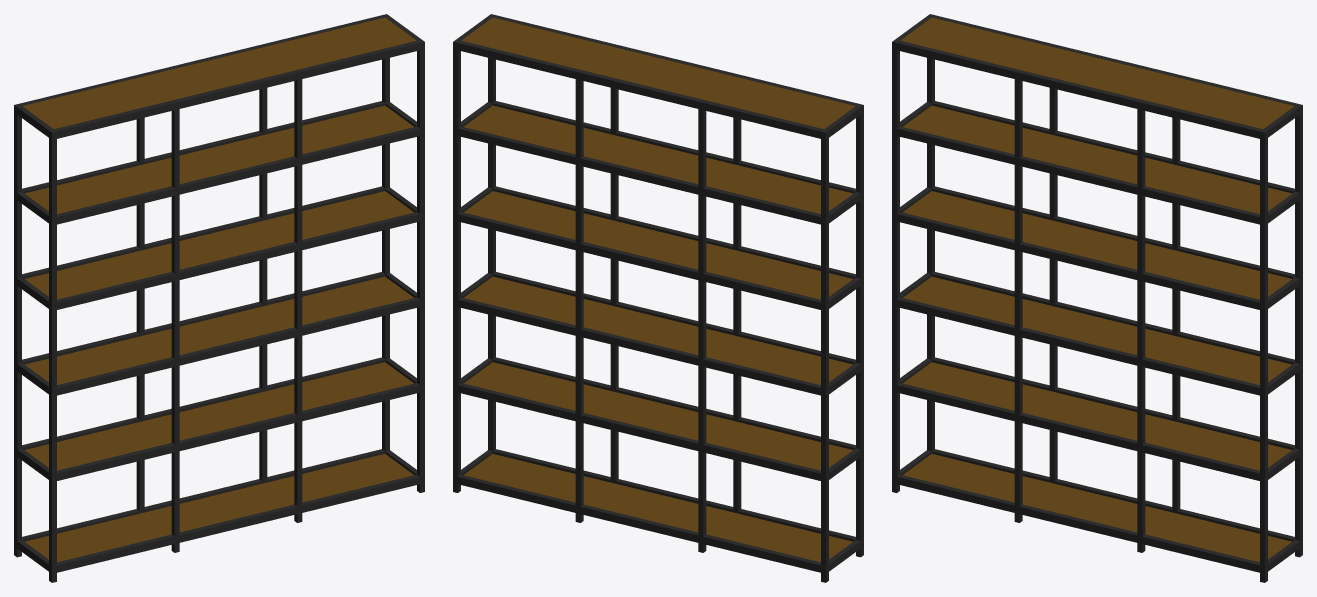
Rendered from BookShelf_6.fbx.
3 renders of one model, left to right at view 1: azimuth 30°, elevation 25°; view 2: azimuth 150°, elevation 25°; view 3: azimuth 330°, elevation 25°, orthographic.
Parts seen in each view (by area): view 1: BookShelf6; view 2: BookShelf6; view 3: BookShelf6.
Part boxes in pixels (x1,y1,x2,y2): BookShelf6: (14,14,424,582); BookShelf6: (453,14,863,582); BookShelf6: (892,14,1302,582).
Size of the model in its own units: 514 by 593 by 90.65.
